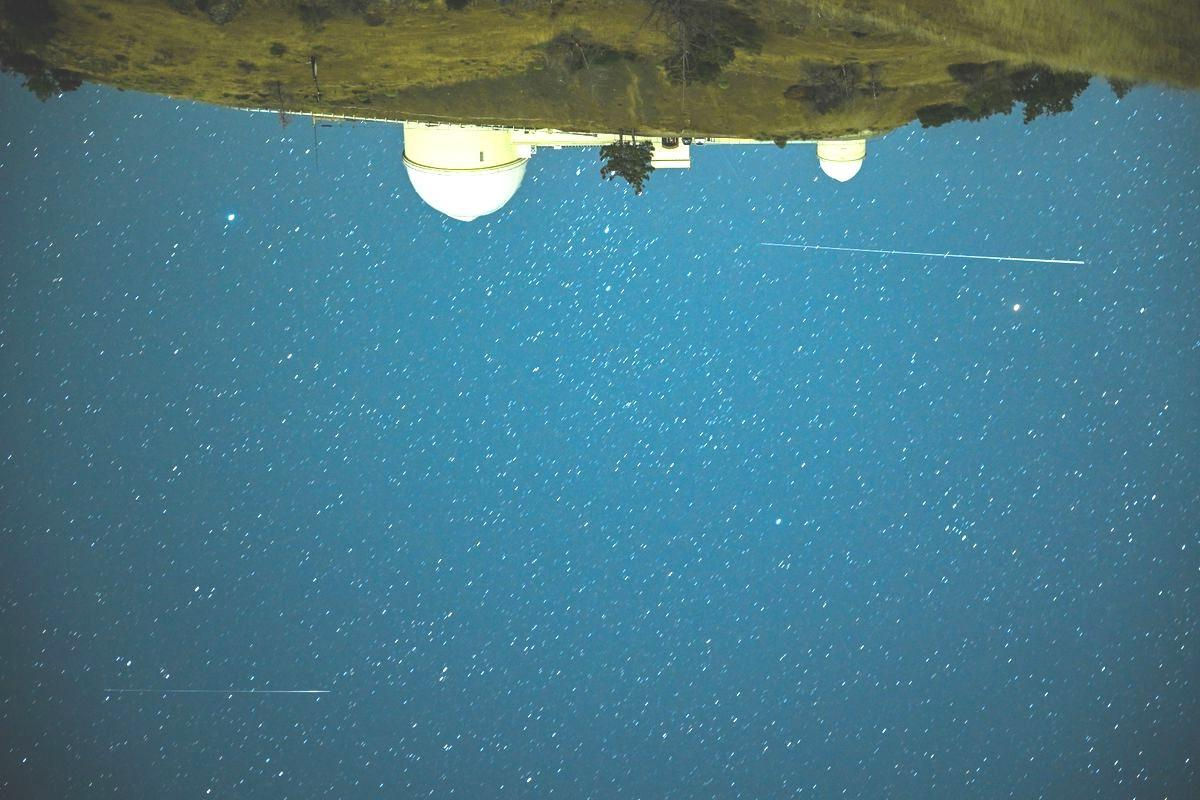meteorite: (735, 239, 1113, 273), (94, 679, 334, 718)
